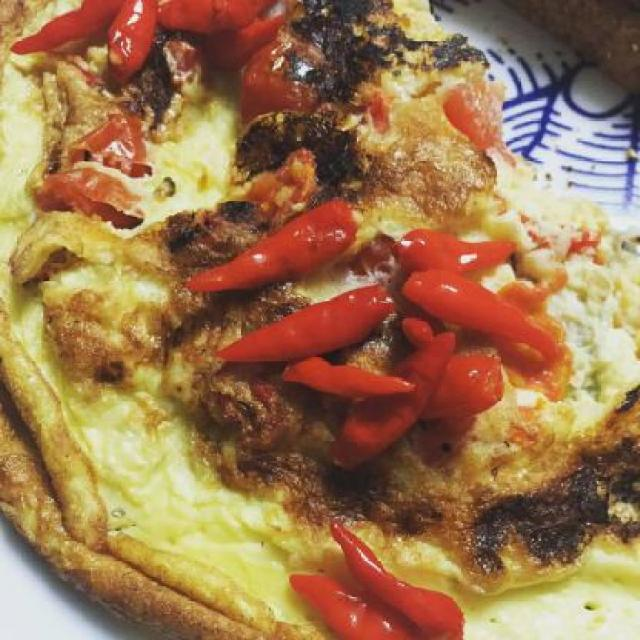Pizza: (0, 0, 635, 638)
